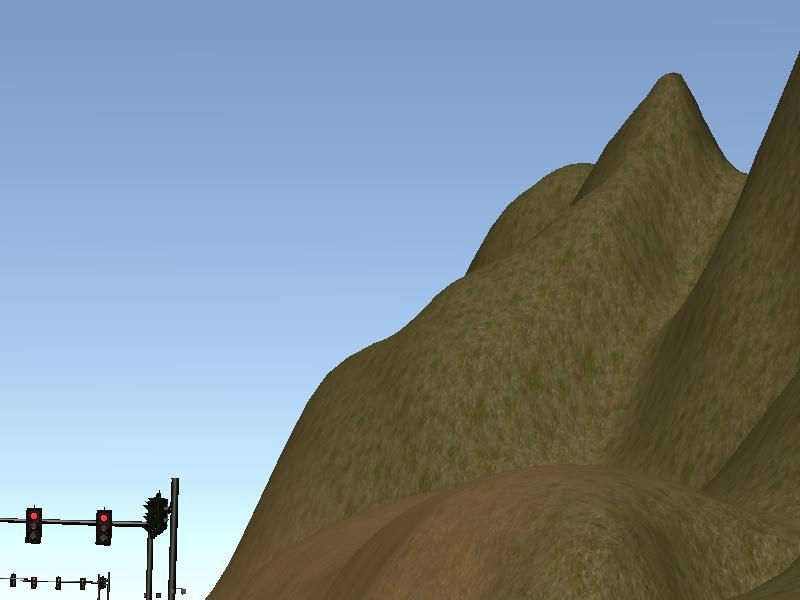red: (21, 500, 48, 547), (90, 506, 113, 547)
